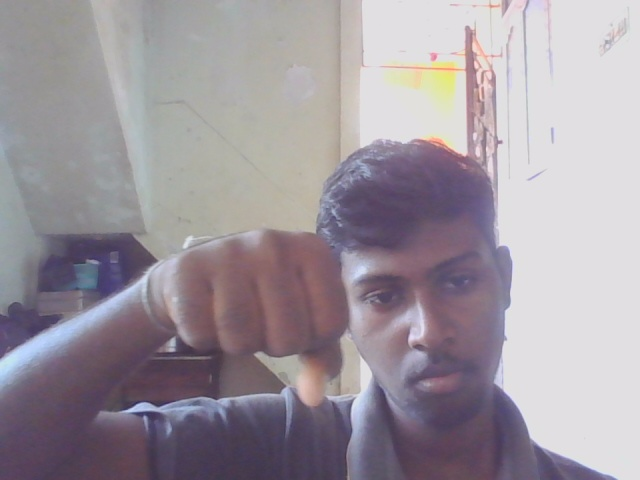No: (135, 217, 366, 411)
